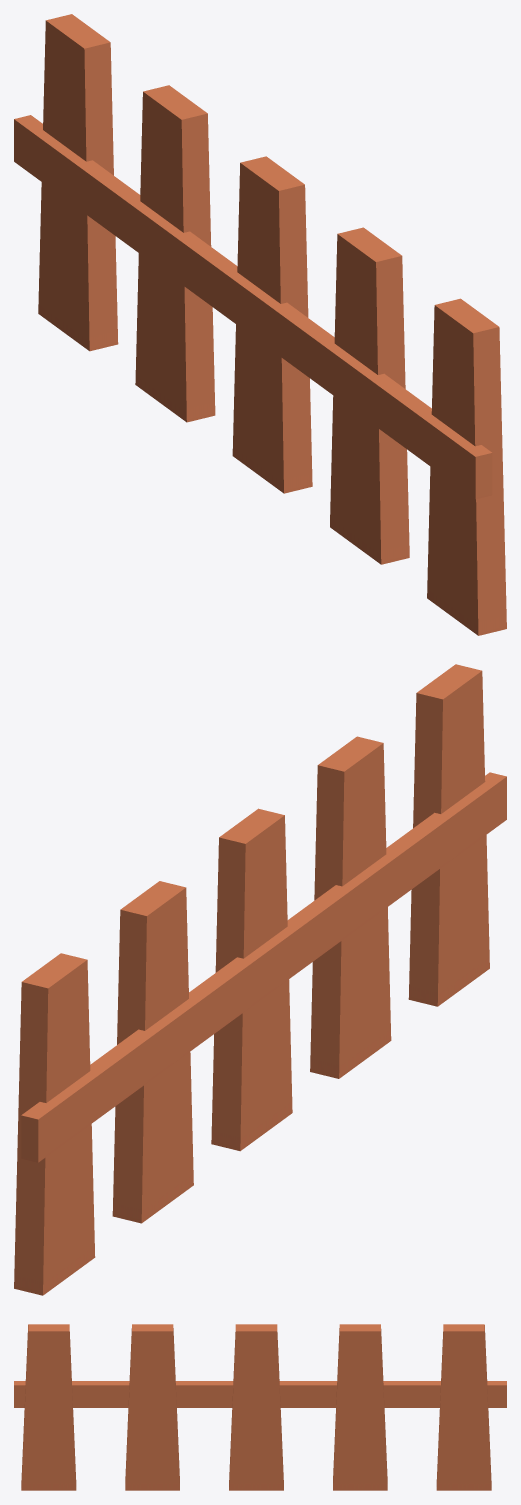
File: Fence1.glb
The picture shows the model from 3 angles, top to bottom: view 1: azimuth 30°, elevation 25°; view 2: azimuth 150°, elevation 25°; view 3: azimuth 270°, elevation 25°; orthographic projection. The views are drawn at different scales.
Visible parts, largest first — view 1: Cube.031, Cube.032; view 2: Cube.031, Cube.032; view 3: Cube.031, Cube.032.
Boxes of the visible parts, left/top/right/bottom form: Cube.031: left=38, top=14, right=506, bottom=635; Cube.032: left=14, top=115, right=492, bottom=499; Cube.031: left=14, top=664, right=489, bottom=1295; Cube.032: left=21, top=772, right=506, bottom=1162; Cube.031: left=21, top=1324, right=491, bottom=1490; Cube.032: left=14, top=1381, right=506, bottom=1407.
Bounding box in the file's own units: 0.0538 × 0.3989 × 1.12.
1 material, 1 textured.
